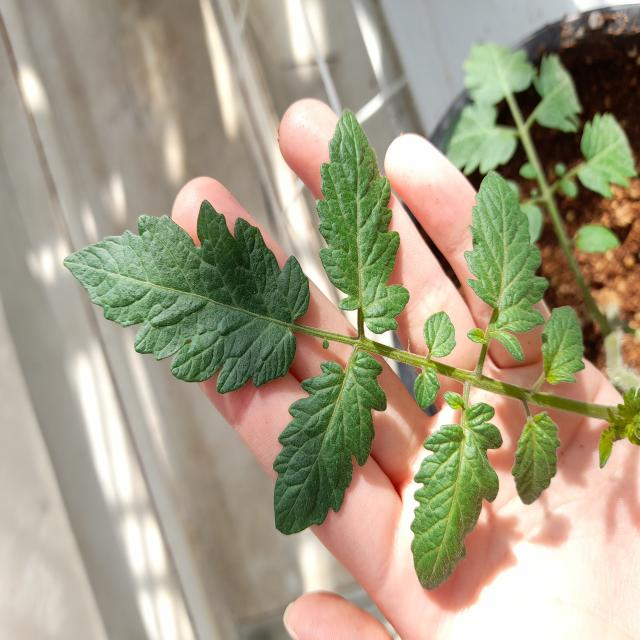Healthy Leaf: (66, 202, 311, 394), (317, 110, 411, 334), (274, 353, 387, 537), (412, 393, 504, 591), (465, 171, 550, 362), (512, 413, 562, 507), (542, 308, 586, 388), (424, 313, 458, 359), (416, 368, 440, 410)
